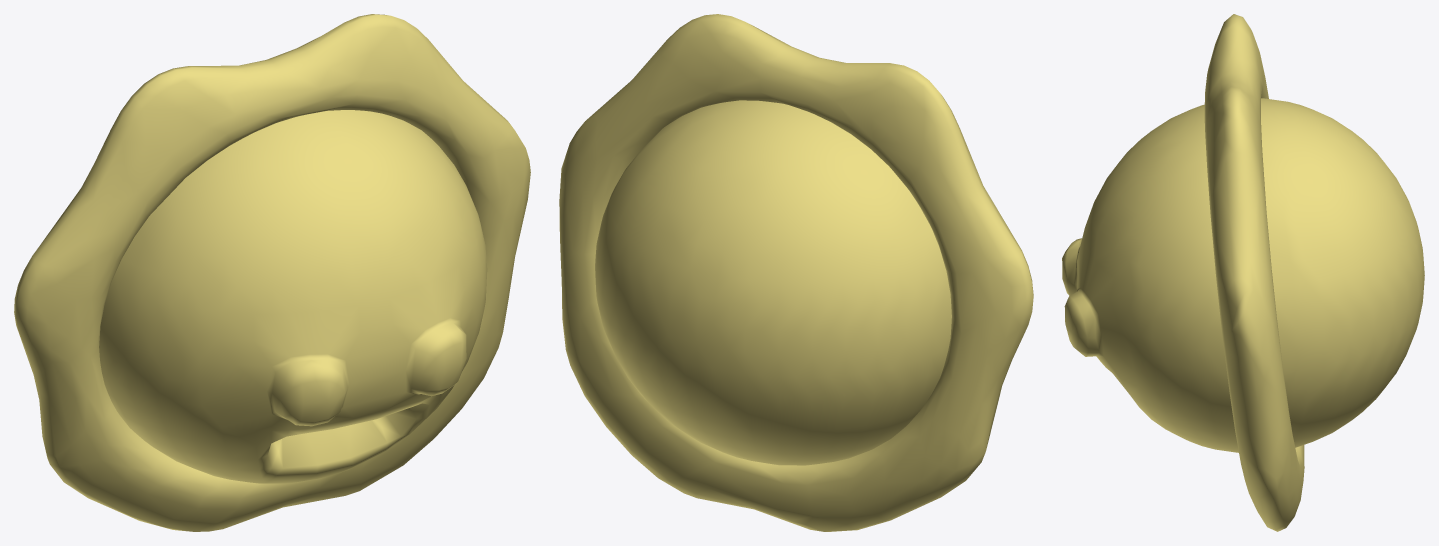
File: herpes.fbx
The picture shows the model from 3 angles, left to right: view 1: azimuth 30°, elevation 25°; view 2: azimuth 150°, elevation 25°; view 3: azimuth 270°, elevation 25°; orthographic projection. The views are drawn at different scales.
Visible parts, largest first — view 1: polySurface1; view 2: polySurface1; view 3: polySurface1.
Part boxes in pixels (<box>): polySurface1: <box>14,14,530,531</box>; polySurface1: <box>559,14,1033,531</box>; polySurface1: <box>1062,14,1424,531</box>.
Bounding box in the file's own units: 9.28 × 8.76 × 6.65.
